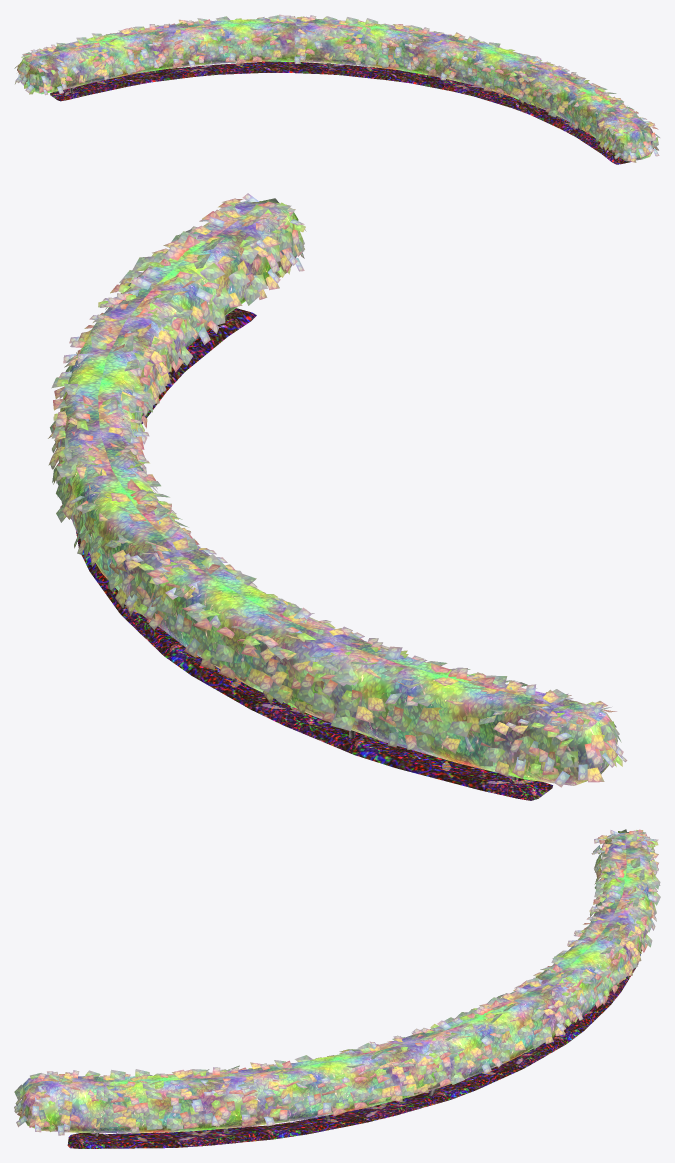
File: hedge_small_inverse_SM.fbx
3 renders of one model, top to bottom at view 1: azimuth 30°, elevation 25°; view 2: azimuth 150°, elevation 25°; view 3: azimuth 270°, elevation 25°, orthographic. The views are drawn at different scales.
Visible parts, largest first — view 1: hedge_small_inverse_SM_LOD0; view 2: hedge_small_inverse_SM_LOD0; view 3: hedge_small_inverse_SM_LOD0.
Boxes of the visible parts, x1,y1,x2,y2 form: hedge_small_inverse_SM_LOD0: (14,14,659,164); hedge_small_inverse_SM_LOD0: (48,193,627,800); hedge_small_inverse_SM_LOD0: (14,829,660,1148).
Bounding box in the file's own units: 1152 × 1153 × 130.
Materials: 3 (3 with a texture image).
